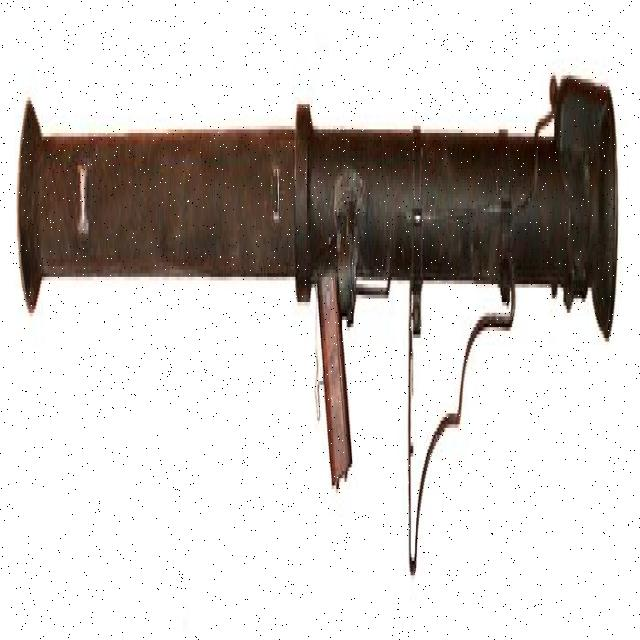bazooka: (11, 71, 623, 590)
